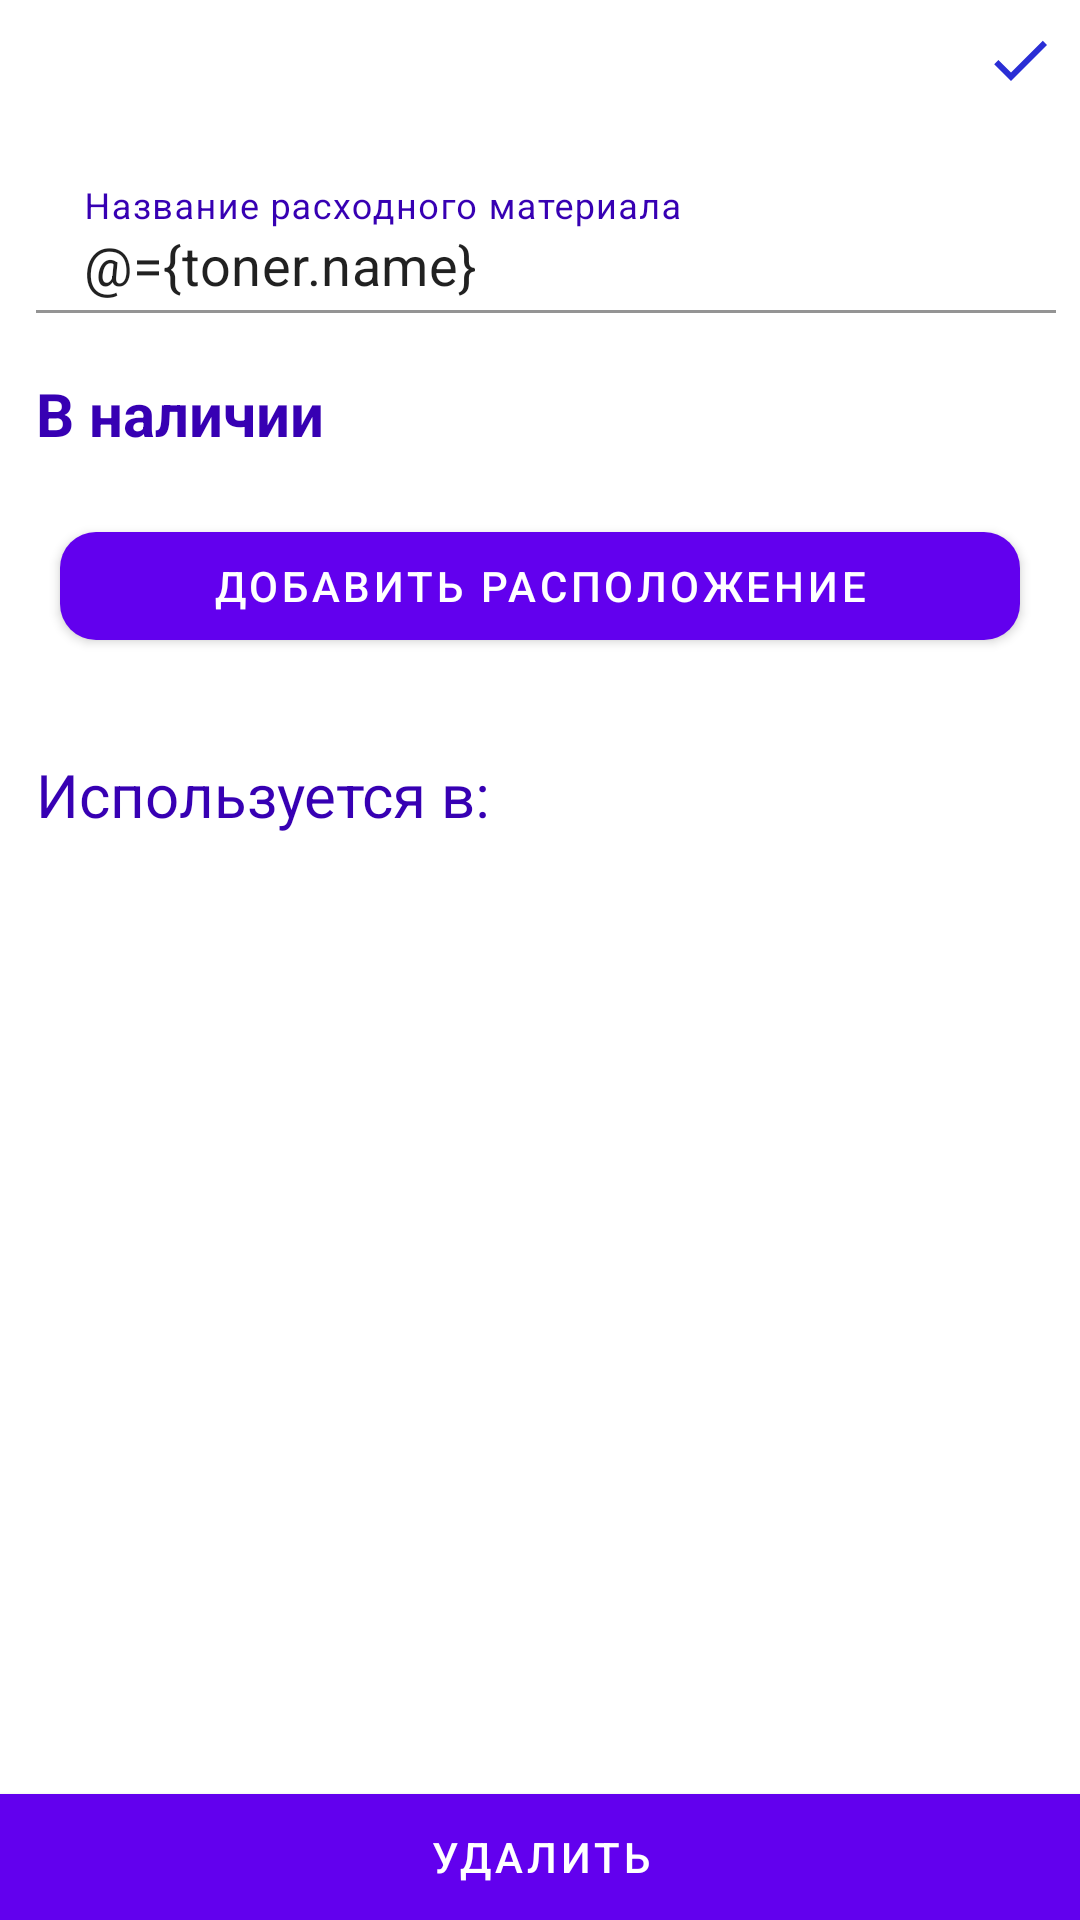

Where icons sit on this 1080 x 1920 app screen, as [x1=x1, y1=y1, x2=x2, y2=y2]:
done: [x1=994, y1=41, x2=1047, y2=81]
